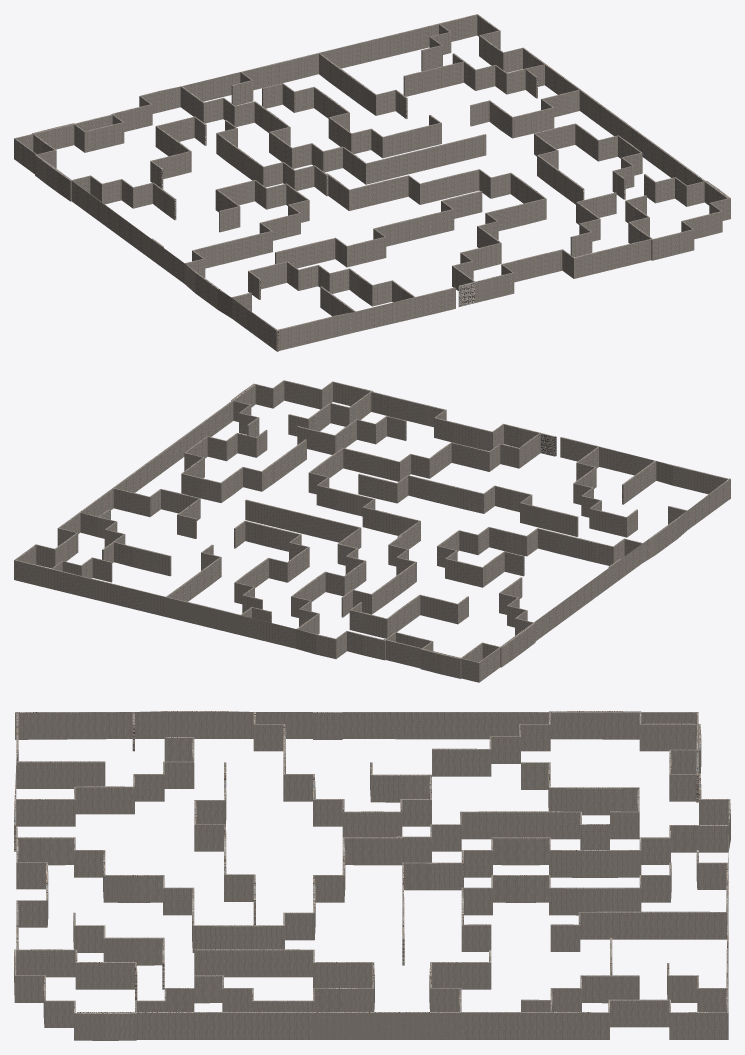
The model's file is mazegenerated.gltf.
3 renders of one model, top to bottom at view 1: azimuth 30°, elevation 25°; view 2: azimuth 150°, elevation 25°; view 3: azimuth 270°, elevation 25°, orthographic. The views are drawn at different scales.
Parts seen in each view (by area): view 1: Maze; view 2: Maze; view 3: Maze.
Boxes of the visible parts, x1,y1,x2,y2 form: Maze: [14, 14, 730, 351]; Maze: [14, 380, 730, 682]; Maze: [14, 711, 730, 1040].
Bounding box in the file's own units: 75.51 × 3.13 × 75.51.
